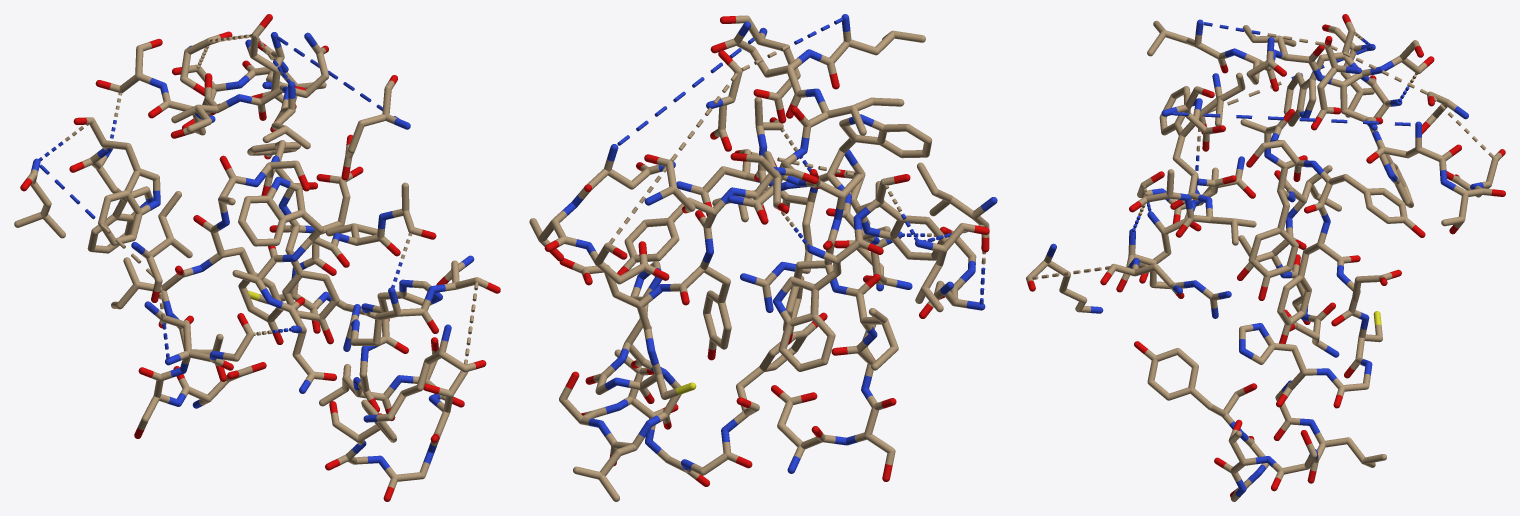
Rendered from 1mel_site.glb.
The picture shows the model from 3 angles, left to right: view 1: azimuth 30°, elevation 25°; view 2: azimuth 150°, elevation 25°; view 3: azimuth 270°, elevation 25°; orthographic projection. The views are drawn at different scales.
Visible parts, largest first — view 1: bonds, atoms, pbonds; view 2: bonds, atoms, pbonds; view 3: bonds, atoms, pbonds.
Boxes of the visible parts, x1,y1,x2,y2 form: bonds: [16, 15, 498, 498]; atoms: [14, 14, 500, 501]; pbonds: [38, 34, 478, 364]; bonds: [529, 15, 995, 499]; atoms: [529, 14, 997, 501]; pbonds: [608, 18, 985, 304]; bonds: [1026, 14, 1505, 501]; atoms: [1026, 14, 1505, 501]; pbonds: [1031, 22, 1494, 279].
Bounding box in the file's own units: 26.24 × 28.23 × 28.27.
